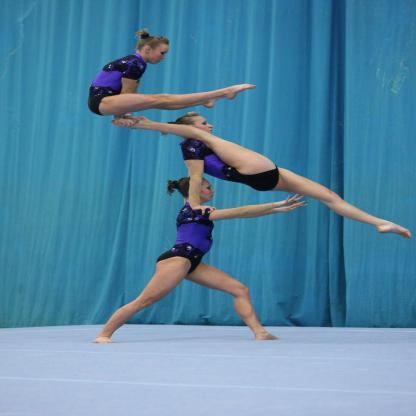face: (145, 42, 174, 66), (190, 179, 217, 204), (188, 115, 216, 138)
